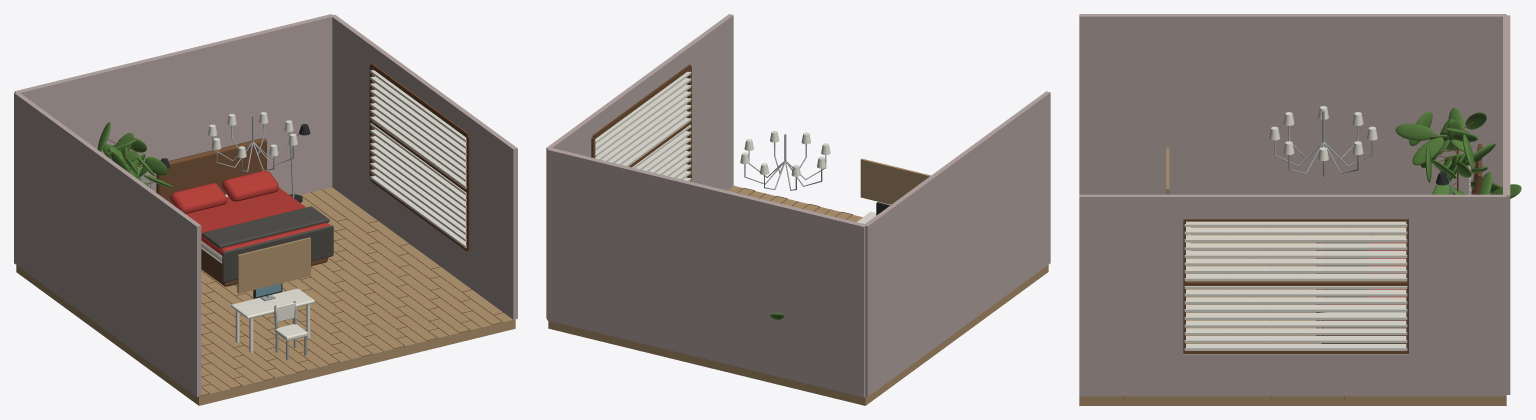
File: scene-4-scenerig.glb
3 views of the same model, side by side, from view 1: azimuth 30°, elevation 25°; view 2: azimuth 150°, elevation 25°; view 3: azimuth 270°, elevation 25° (orthographic). The views are drawn at different scales.
Parts seen in each view (by area): view 1: left wall, floor, bed wall, right wall front, right wall rear, headboard, right wall sill, quilt, cork pinboard, folded dark blanket, right wall lintel, hanging blanket (+22 smaller); view 2: bed wall, left wall, right wall front, floor, right wall lintel, cork pinboard, right wall rear, venetian blind.015, venetian blind.014, venetian blind.013, window crossbar.002, venetian blind.012 (+4 smaller); view 3: left wall, right wall front, right wall rear, right wall sill, floor, right wall lintel, bed wall, venetian blind.006, venetian blind.010, venetian blind.014, venetian blind.001, venetian blind.002 (+20 smaller).
Part boxes in pixels (x1,y1,x2,y2): left wall: (14, 92, 201, 396); floor: (16, 187, 515, 405); bed wall: (14, 14, 333, 194); right wall front: (469, 116, 517, 319); right wall rear: (332, 14, 376, 215); headboard: (156, 138, 266, 204); right wall sill: (372, 182, 468, 286); quilt: (186, 187, 330, 255); cork pinboard: (237, 237, 310, 293); folded dark blanket: (202, 206, 329, 248); right wall lintel: (372, 45, 472, 133); hanging blanket: (222, 225, 333, 282); bed wall: (547, 147, 865, 397); left wall: (864, 91, 1050, 396); right wall front: (685, 14, 733, 190); floor: (548, 186, 1048, 405); right wall lintel: (588, 46, 689, 134); cork pinboard: (860, 158, 930, 204); right wall rear: (546, 117, 592, 318); venetian blind.015: (594, 78, 691, 150); venetian blind.014: (594, 84, 691, 156); venetian blind.013: (595, 91, 691, 159); window crossbar.002: (592, 64, 690, 138); venetian blind.012: (601, 97, 691, 161); left wall: (1079, 14, 1506, 194); right wall front: (1079, 194, 1183, 396); right wall rear: (1409, 194, 1506, 396); right wall sill: (1183, 354, 1408, 396); floor: (1079, 227, 1506, 405); right wall lintel: (1183, 194, 1408, 219); bed wall: (1503, 15, 1510, 394); venetian blind.006: (1184, 297, 1407, 304); venetian blind.010: (1184, 266, 1407, 273); venetian blind.014: (1184, 235, 1407, 242); venetian blind.001: (1184, 336, 1407, 343); venetian blind.002: (1184, 328, 1407, 335).
Bounding box in the file's own units: 7.25 × 3.8 × 7.25.
